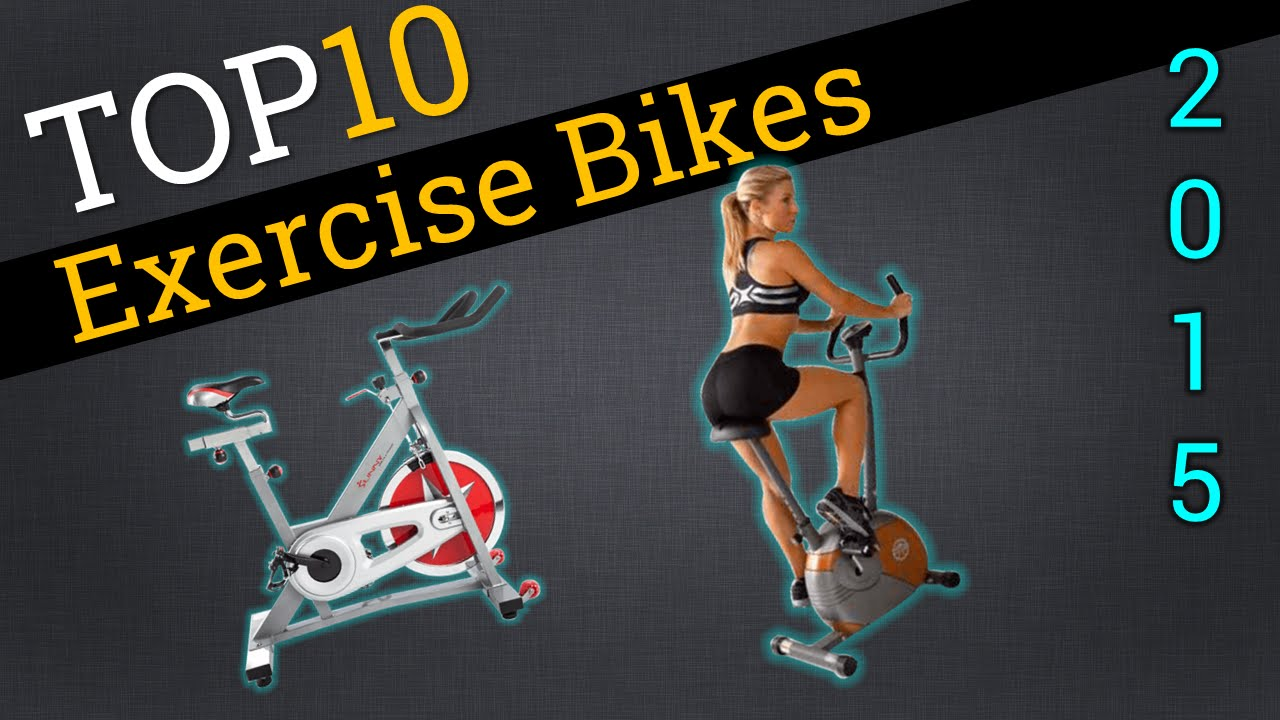gym_bike: (147, 276, 558, 676), (697, 262, 970, 684)
